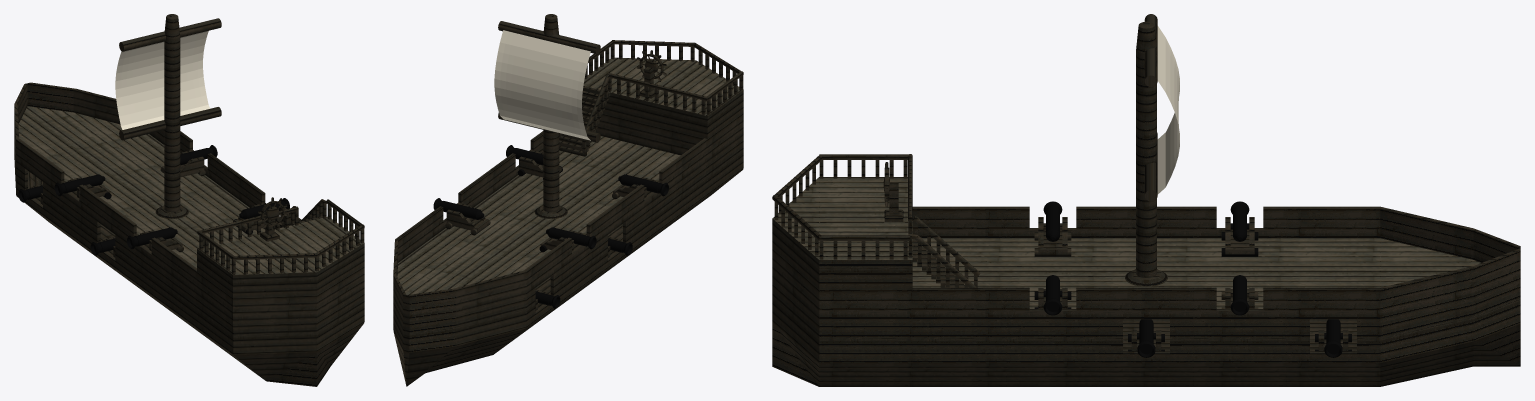
The model's file is sloop.glb.
3 views of the same model, side by side, from view 1: azimuth 30°, elevation 25°; view 2: azimuth 150°, elevation 25°; view 3: azimuth 270°, elevation 25° (orthographic). The views are drawn at different scales.
Visible parts, largest first — view 1: Sloop__export; view 2: Sloop__export; view 3: Sloop__export.
Part boxes in pixels (box(x1,y1,x2,y2)): Sloop__export: box(14, 14, 364, 386); Sloop__export: box(393, 14, 743, 386); Sloop__export: box(772, 14, 1520, 386).
Bounding box in the file's own units: 5.02 × 8.09 × 16.
Materials: 5 (2 with a texture image).
